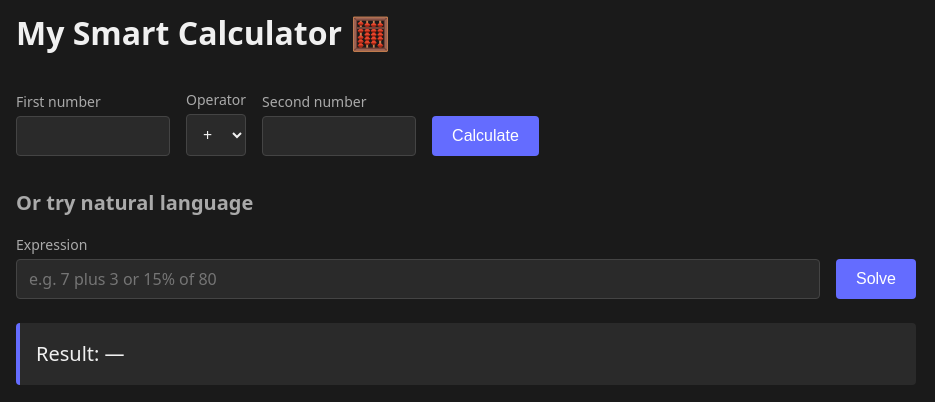
Test: App › [CALC-013] shows validation when expression is empty
The width and height of the screenshot is (935, 402).
Click the button "Solve" at (876, 279), box [836,259,916,299]
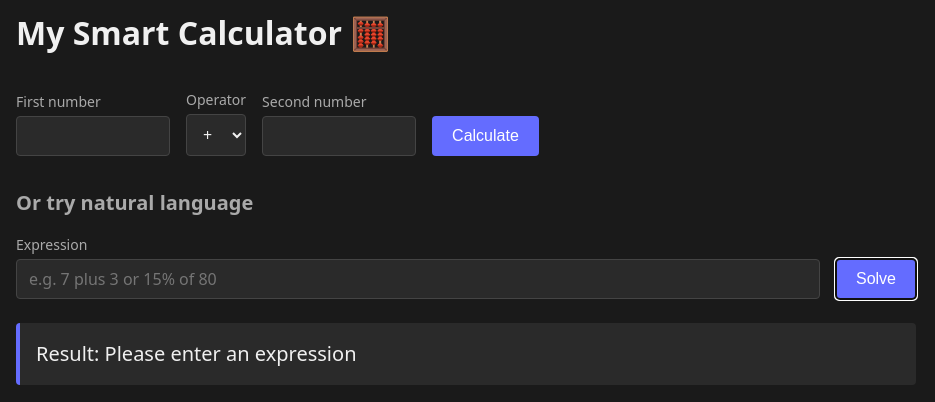
Expected: the text "Result: Please enter an expression" is shown, [16,323,916,385]
